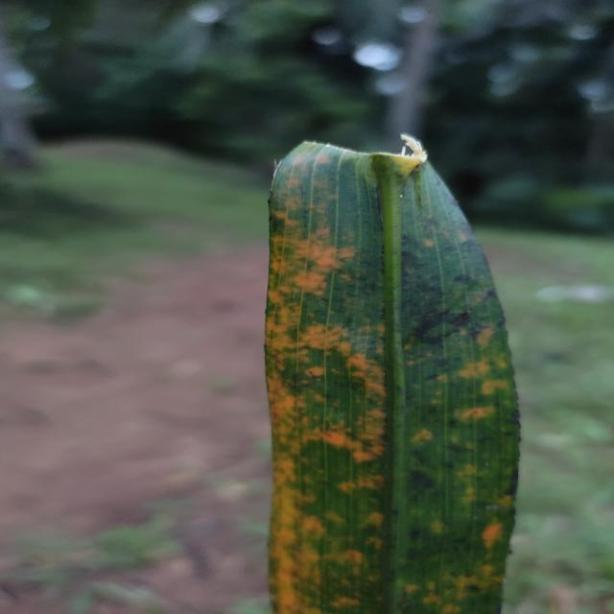Kalium: (264, 126, 526, 614)
